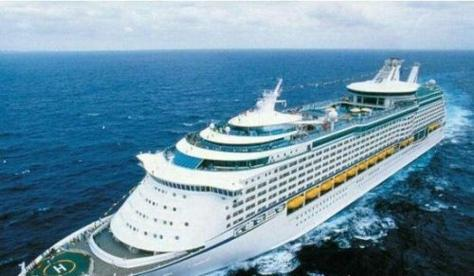Ship: (15, 58, 454, 276)
